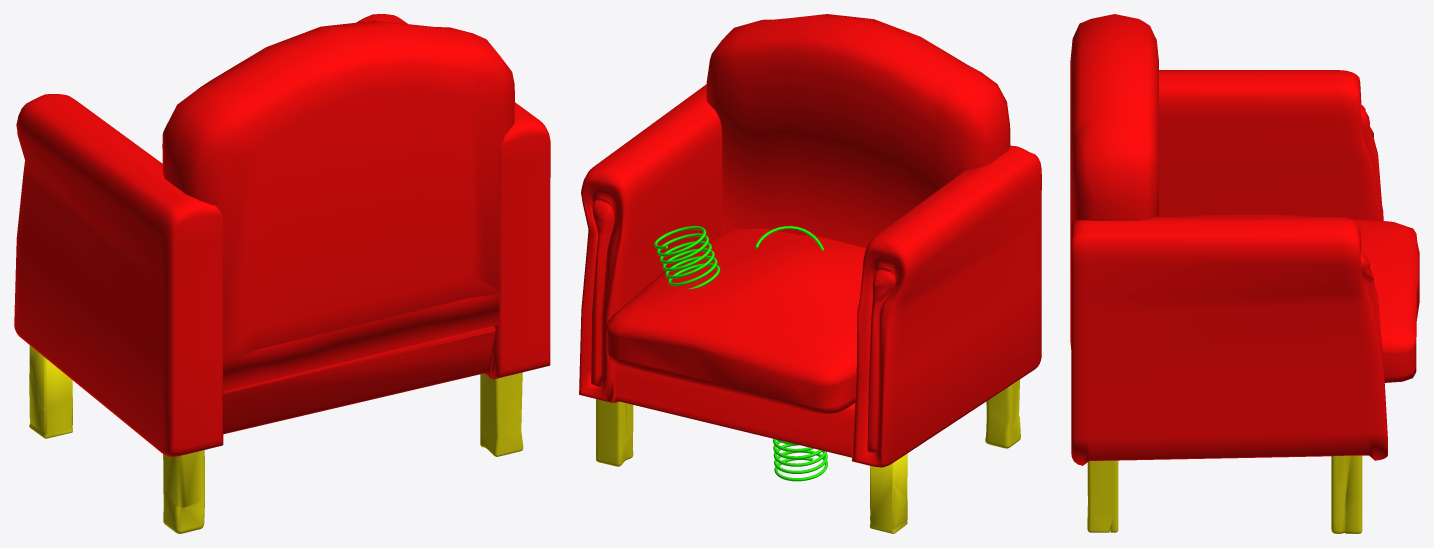
Rendered from fauteuil.FBX.
The picture shows the model from 3 angles, left to right: view 1: azimuth 30°, elevation 25°; view 2: azimuth 150°, elevation 25°; view 3: azimuth 270°, elevation 25°; orthographic projection. The views are drawn at different scales.
Visible parts, largest first — view 1: coussin, pied; view 2: coussin, pied, Spring001; view 3: coussin, pied.
Boxes of the visible parts, bbox=[...] form: coussin: bbox=[14, 14, 550, 456]; pied: bbox=[29, 345, 523, 533]; coussin: bbox=[579, 14, 1041, 467]; pied: bbox=[596, 379, 1020, 533]; Spring001: bbox=[654, 226, 827, 481]; coussin: bbox=[1070, 14, 1419, 465]; pied: bbox=[1087, 455, 1362, 533].
Size of the model in its own units: 63.54 by 71.58 by 54.33.
